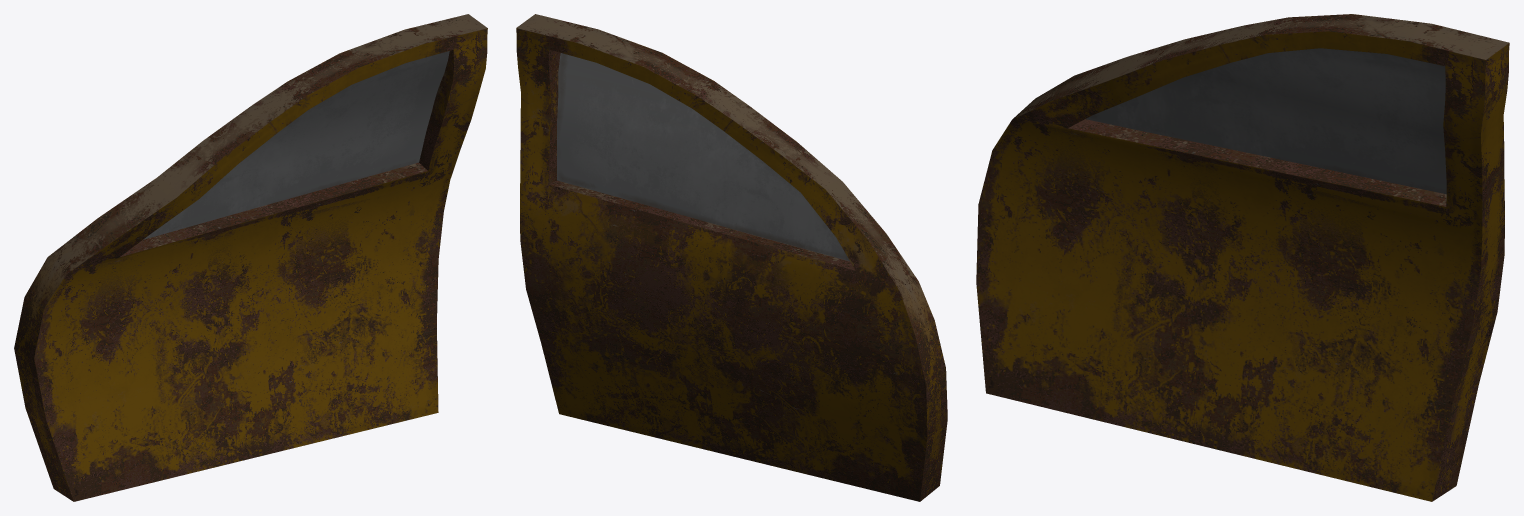
Rendered from Cardoor.fbx.
3 views of the same model, side by side, from view 1: azimuth 30°, elevation 25°; view 2: azimuth 150°, elevation 25°; view 3: azimuth 330°, elevation 25° (orthographic). The views are drawn at different scales.
Visible parts, largest first — view 1: Plane.008, Plane.009; view 2: Plane.008, Plane.009; view 3: Plane.008, Plane.009.
Boxes of the visible parts, <box> form: Plane.008: <box>14,14,487,501</box>; Plane.009: <box>143,51,449,239</box>; Plane.008: <box>516,14,947,501</box>; Plane.009: <box>557,53,849,261</box>; Plane.008: <box>976,14,1509,501</box>; Plane.009: <box>1085,48,1446,194</box>.
Bounding box in the file's own units: 349 × 289 × 54.76.
